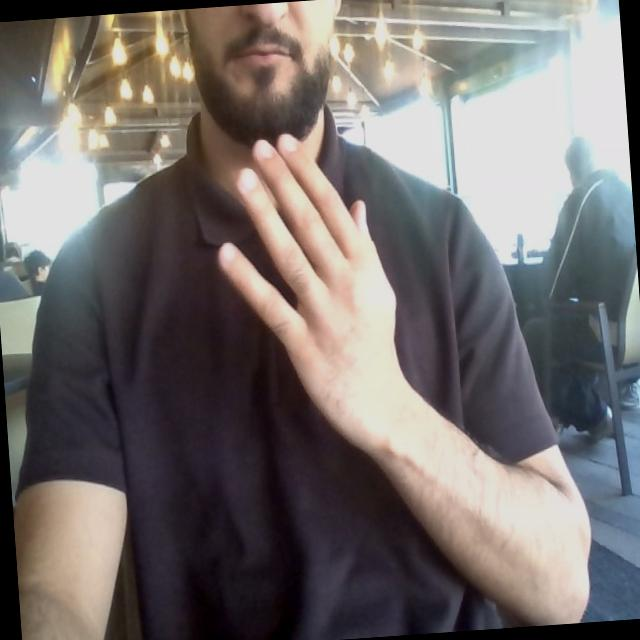Hand: (219, 134, 406, 451)
